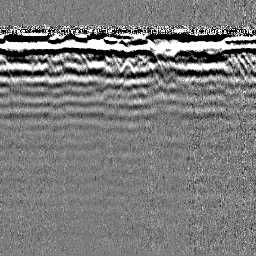cavity: (118, 59, 135, 76)
